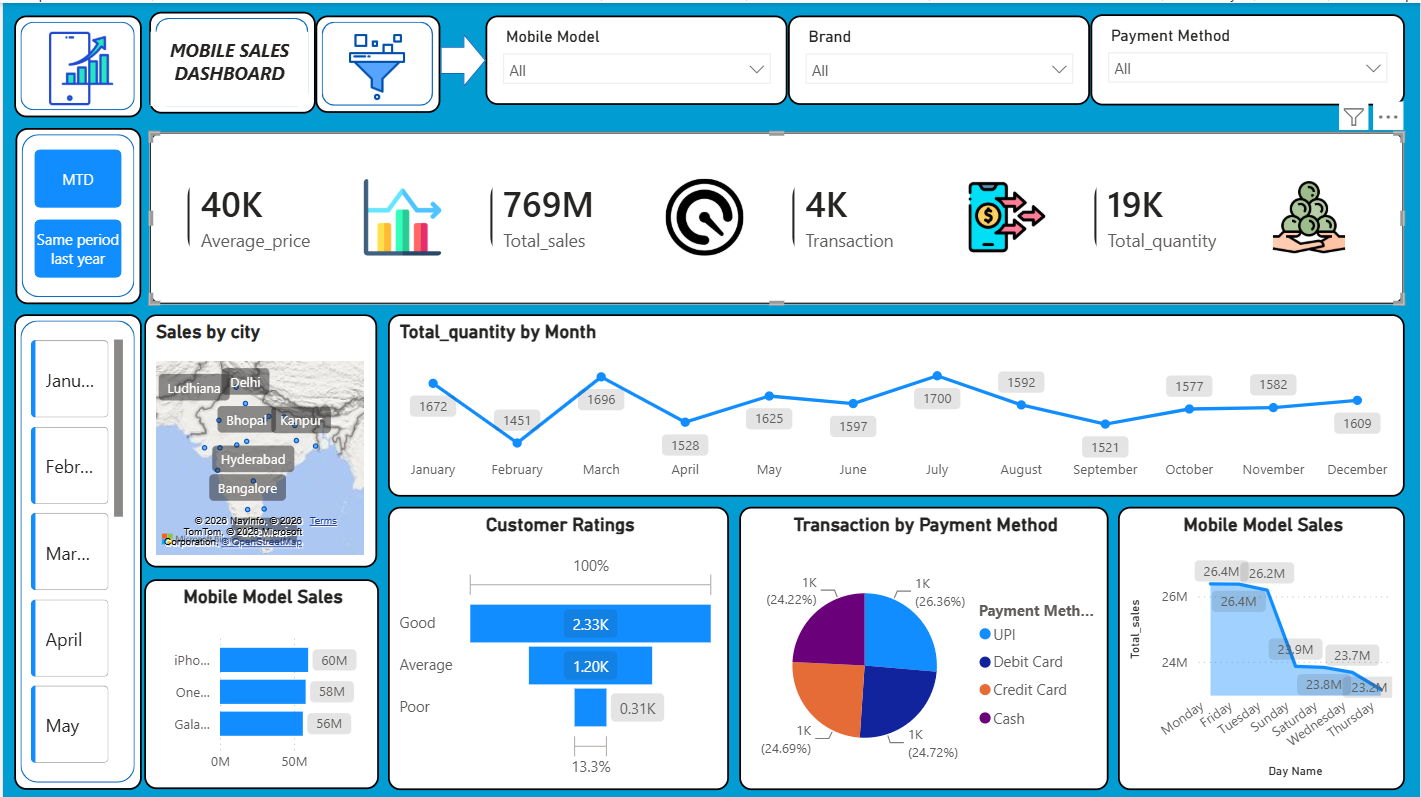

The page's visual inventory and layout, read from the dashboard file:
{"tool":"powerbi","page":{"name":"Dashboard","canvas":[1280,720],"ordinal":0},"visuals":[{"type":"shape","box":[9.6,11,115.3,91.9],"z":0},{"type":"shape","box":[11,112.5,113.9,159.2],"z":1000},{"type":"shape","box":[9.6,281.3,115.3,429.5],"z":2000},{"type":"advancedSlicerVisual","fields":{"Values":["Query1.Date.Variation.Date Hierarchy.Month"]},"box":[20.6,299.1,93.3,395.2],"z":3000},{"type":"cardVisual","fields":{"Data":["Sheet1.average_price","Sheet1.total_sales","Sheet1.transaction","Sheet1.Total_quantity"]},"box":[132.6,116.3,1133.7,155.8],"z":4000},{"type":"slicer","fields":{"Values":["Sheet1.Mobile Model"]},"box":[436.4,11,273.1,81],"z":5000},{"type":"slicer","fields":{"Values":["Sheet1.Brand"]},"box":[709.4,11,273.1,81],"z":6000},{"type":"slicer","fields":{"Values":["Sheet1.Payment Method"]},"box":[982.6,10.5,283.7,82.6],"z":7000},{"type":"shape","box":[282.7,11,112.5,87.8],"z":8000},{"type":"image","box":[295,27.4,86.4,61.7],"z":9000},{"type":"shape","box":[395.2,27.4,41.2,49.4],"z":10000},{"type":"shape","box":[132.6,8.1,150,91.9],"z":11000},{"type":"textbox","box":[133.1,26.1,142.7,67.2],"z":12000},{"type":"map","fields":{"Category":["Sheet1.City"]},"box":[127.9,281.4,210.5,229.1],"z":13000},{"type":"lineChart","fields":{"Category":["Query1.Date.Variation.Date Hierarchy.Month"],"Y":["Sheet1.Total_quantity"]},"box":[347.7,281.4,918.6,165.1],"z":14000},{"type":"funnel","title":" Customer Ratings","fields":{"Y":["CountNonNull(Sheet1.Customer Ratings)"],"Category":["Sheet1.rating status"]},"box":[347.7,454.7,308.1,255.8],"z":15000},{"type":"pieChart","fields":{"Y":["Sheet1.transaction"],"Category":["Sheet1.Payment Method"]},"box":[665.1,454.7,333.7,255.8],"z":16000},{"type":"clusteredBarChart","title":" Mobile Model Sales","fields":{"Category":["Sheet1.Mobile Model"],"Y":["Sheet1.total_sales"]},"box":[127.9,520.9,211.6,189.5],"z":17000},{"type":"areaChart","title":" Mobile Model Sales","fields":{"Y":["Sheet1.total_sales"],"Category":["Query1.Day Name"]},"box":[1007,454.7,259.3,255.8],"z":18000},{"type":"pageNavigator","box":[28.2,132.1,79,116.3],"z":18001},{"type":"image","box":[15.8,26,109.5,66.6],"z":18002}]}

Visuals, with their boxes in screenshot pixels (x1, y1, x2, y2), scaled from the page's 1280x720 canvas onto the 1421x797 screenshot:
shape: [left=11, top=12, right=139, bottom=114]
shape: [left=12, top=125, right=139, bottom=301]
shape: [left=11, top=311, right=139, bottom=787]
advancedSlicerVisual - Query1.Date.Variation.Date Hierarchy.Month: [left=23, top=331, right=126, bottom=769]
cardVisual - Sheet1.average_price x Sheet1.total_sales: [left=147, top=129, right=1406, bottom=301]
slicer - Sheet1.Mobile Model: [left=484, top=12, right=788, bottom=102]
slicer - Sheet1.Brand: [left=788, top=12, right=1091, bottom=102]
slicer - Sheet1.Payment Method: [left=1091, top=12, right=1406, bottom=103]
shape: [left=314, top=12, right=439, bottom=109]
image: [left=327, top=30, right=423, bottom=99]
shape: [left=439, top=30, right=484, bottom=85]
shape: [left=147, top=9, right=314, bottom=111]
textbox: [left=148, top=29, right=306, bottom=103]
map - Sheet1.City: [left=142, top=311, right=376, bottom=565]
lineChart - Query1.Date.Variation.Date Hierarchy.Month x Sheet1.Total_quantity: [left=386, top=311, right=1406, bottom=494]
" Customer Ratings" funnel: [left=386, top=503, right=728, bottom=786]
pieChart - Sheet1.transaction x Sheet1.Payment Method: [left=738, top=503, right=1109, bottom=786]
" Mobile Model Sales" clusteredBarChart: [left=142, top=577, right=377, bottom=786]
" Mobile Model Sales" areaChart: [left=1118, top=503, right=1406, bottom=786]
pageNavigator: [left=31, top=146, right=119, bottom=275]
image: [left=18, top=29, right=139, bottom=103]
